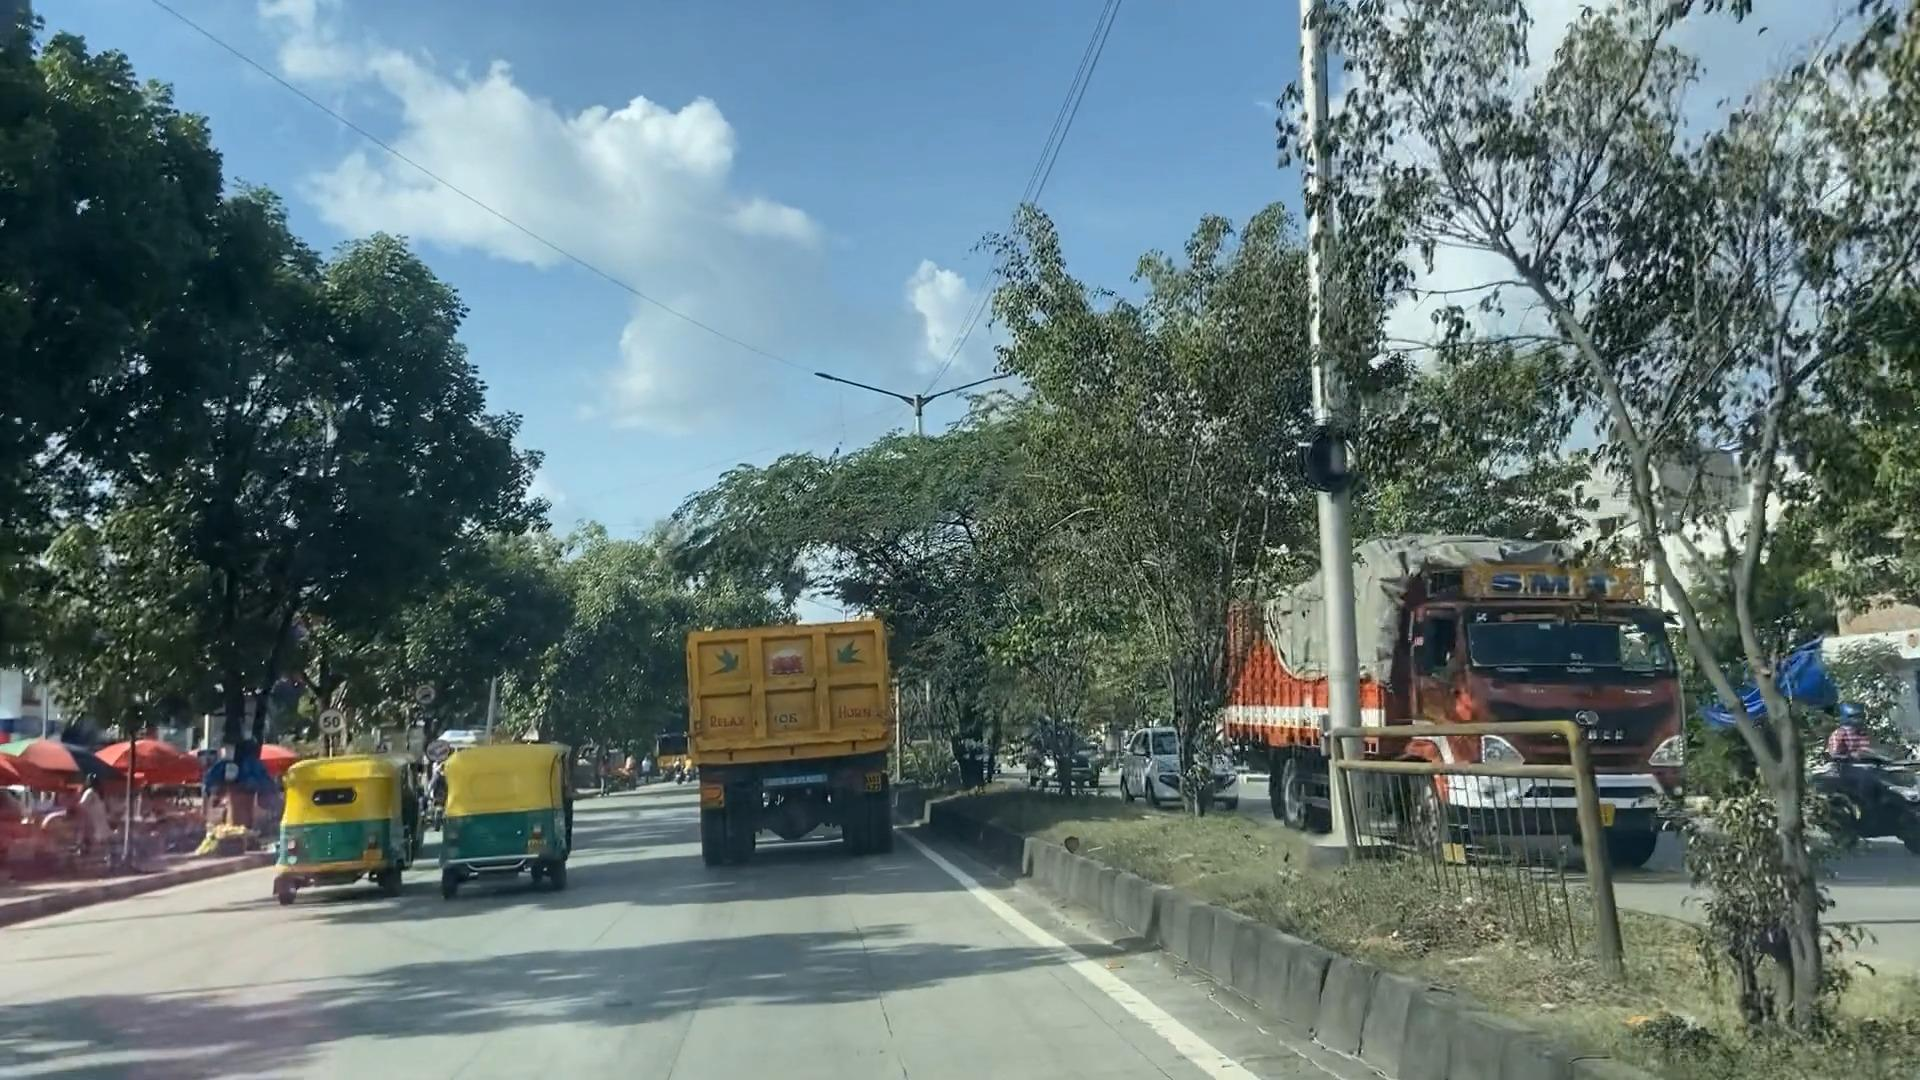HMV: (687, 628, 903, 866)
LMV: (427, 742, 566, 893), (285, 753, 413, 884)
